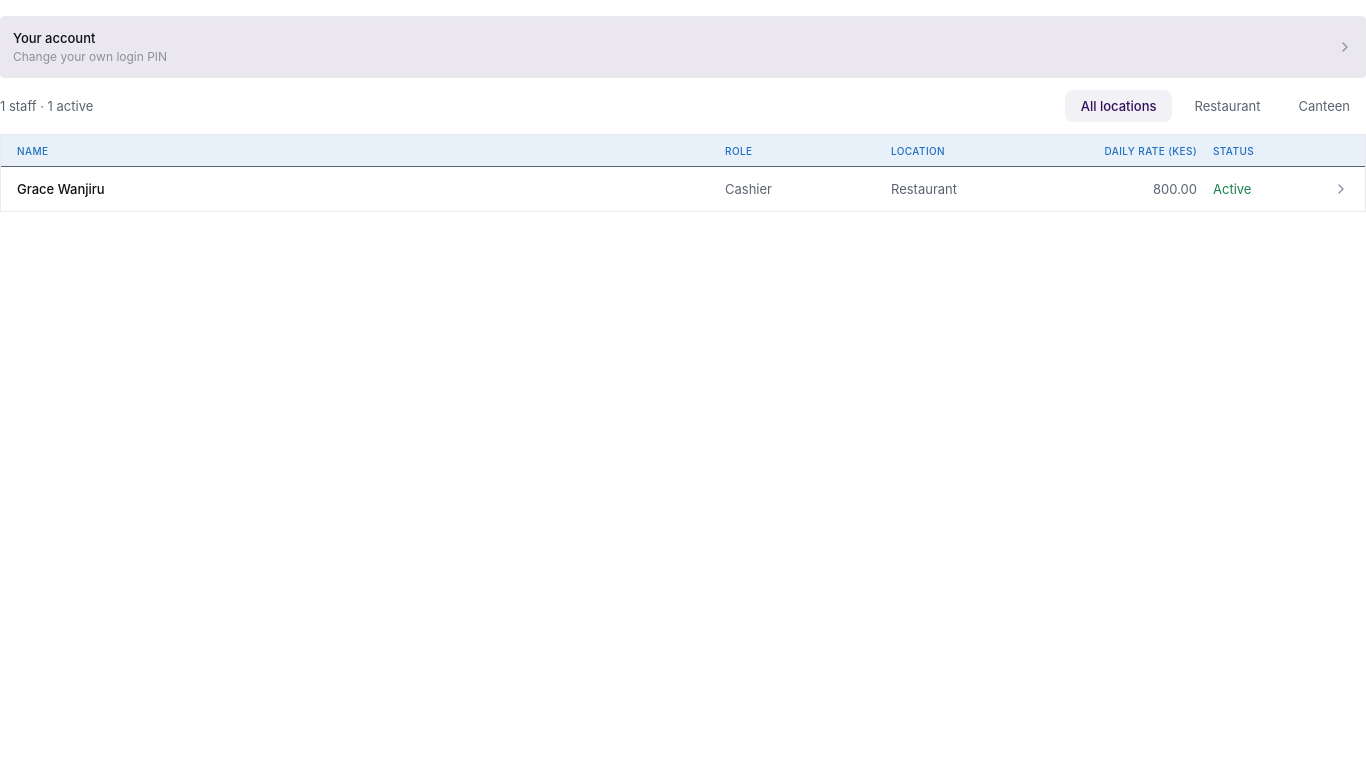
Scenario: Roster — your account PIN change › surfaces a wrong-current-PIN error inline on the current PIN field
Click the button with aria-label "Change your PIN": (54, 38) [0,16,1365,78]
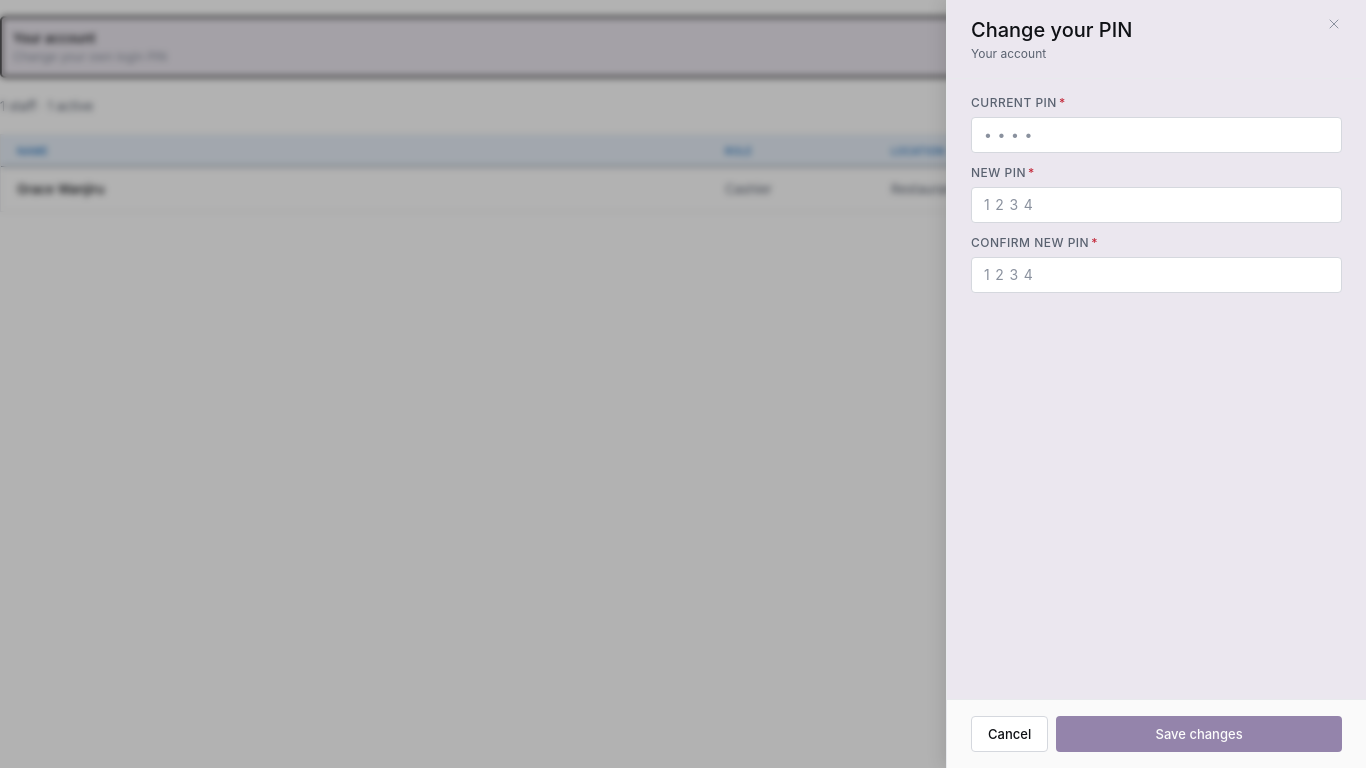
In the password field labelled "Current PIN*": (1156, 135) [984,125,1329,145], type "0000"
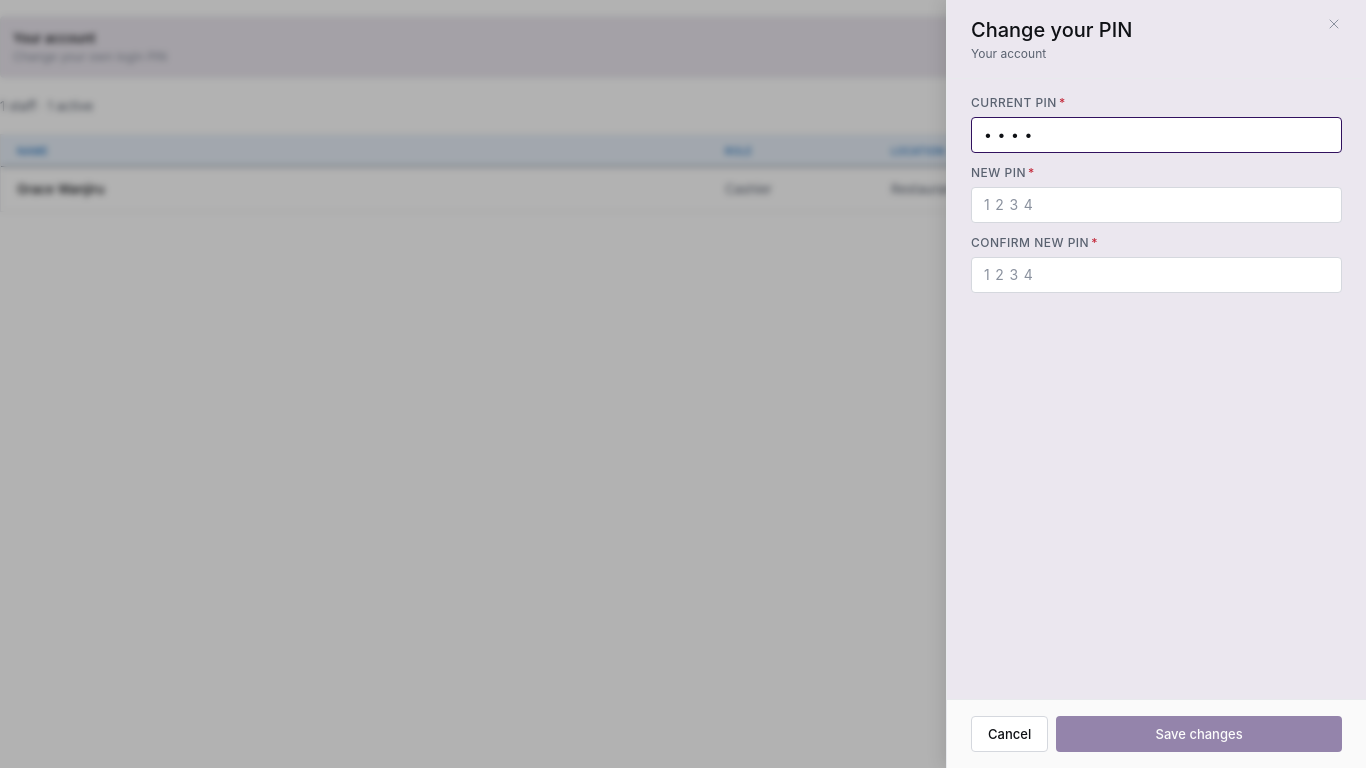
In the password field labelled "New PIN*": (1156, 205) [984,195,1329,215], type "5678"
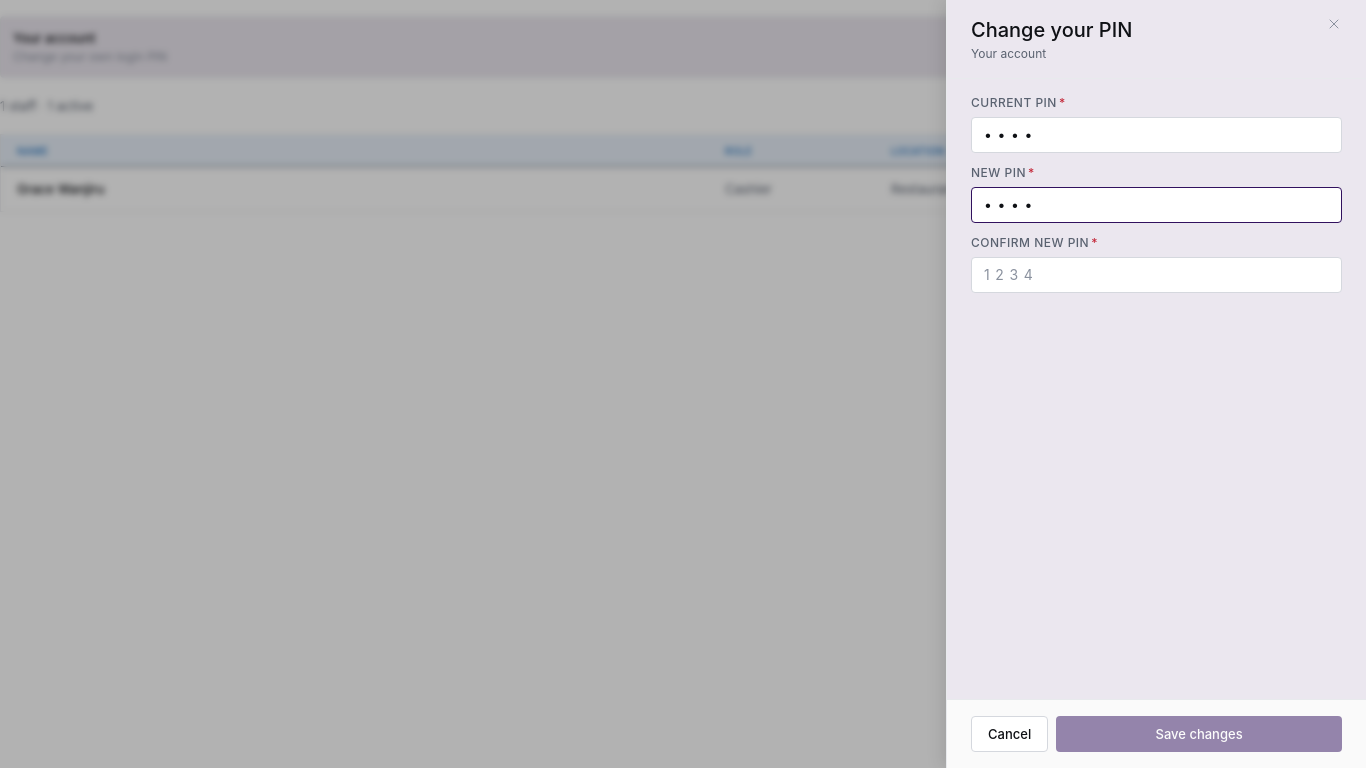
In the password field labelled "Confirm new PIN*": (1156, 275) [984,265,1329,285], type "5678"
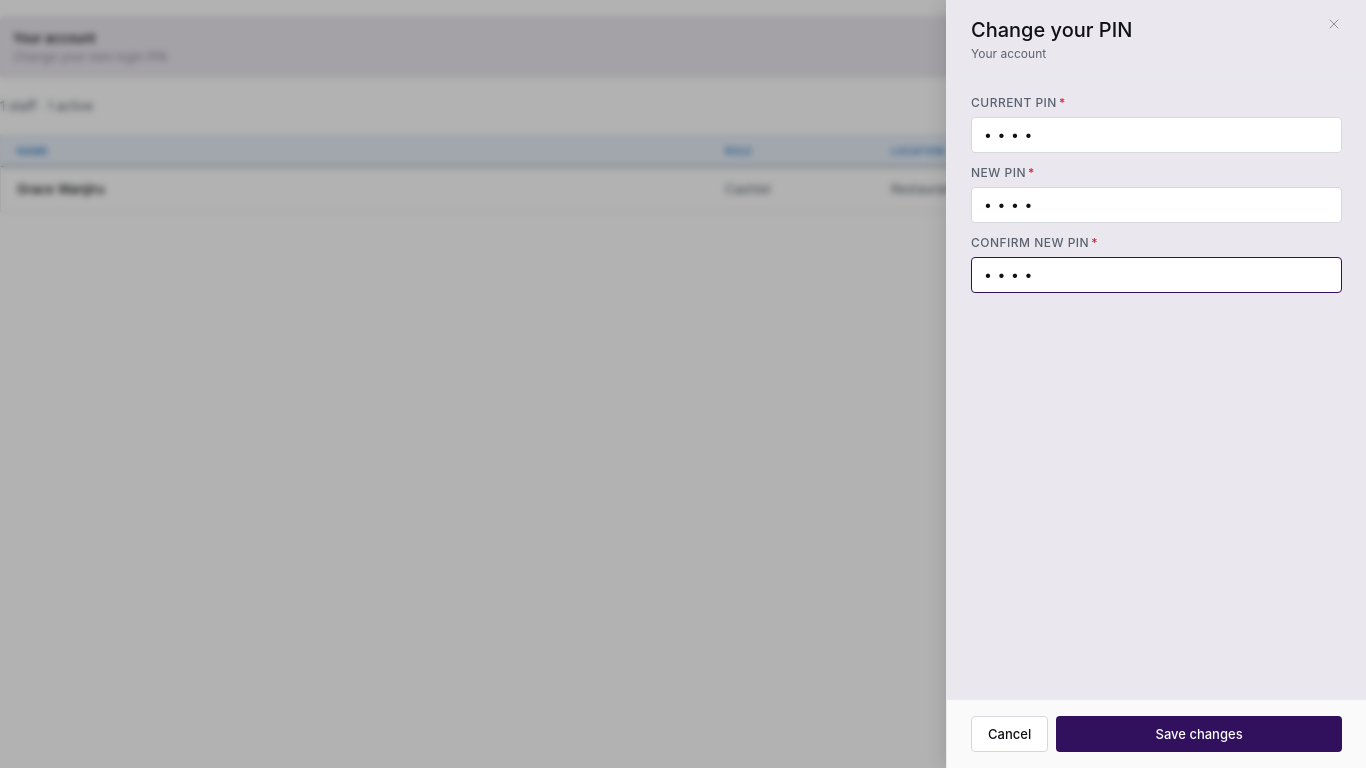
Click the button "Save changes": (1199, 734) [1056,716,1342,752]
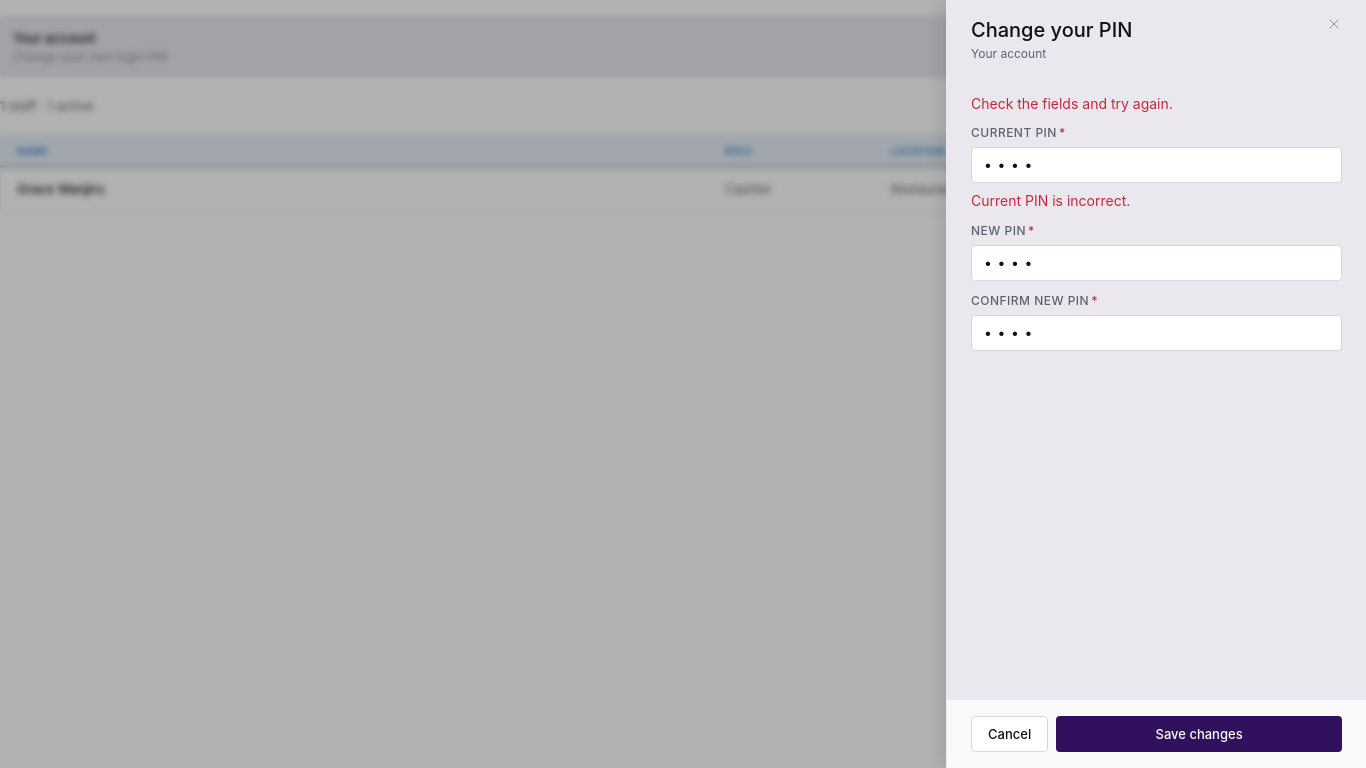
Expected: the text "Current PIN is incorrect." is shown, [971,192,1130,209]
